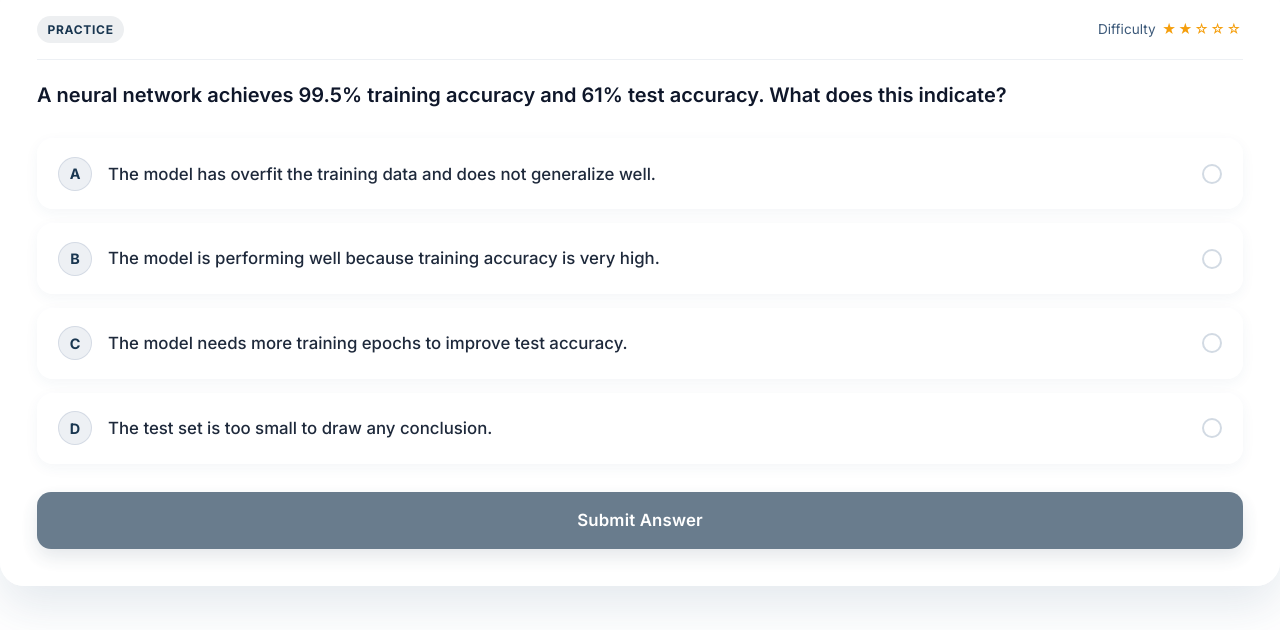
Test: Module 5: Answer Submission Component Tests › Submit button is disabled by default until an option is selected
expect the button "Submit Answer" is disabled: met, box [37, 492, 1243, 549]
# Select Option 1
Step 1. Click the radio button with aria-label "Option A: The model has overfit the training data and does n" → {"x": 640, "y": 174}, box [37, 138, 1243, 209]
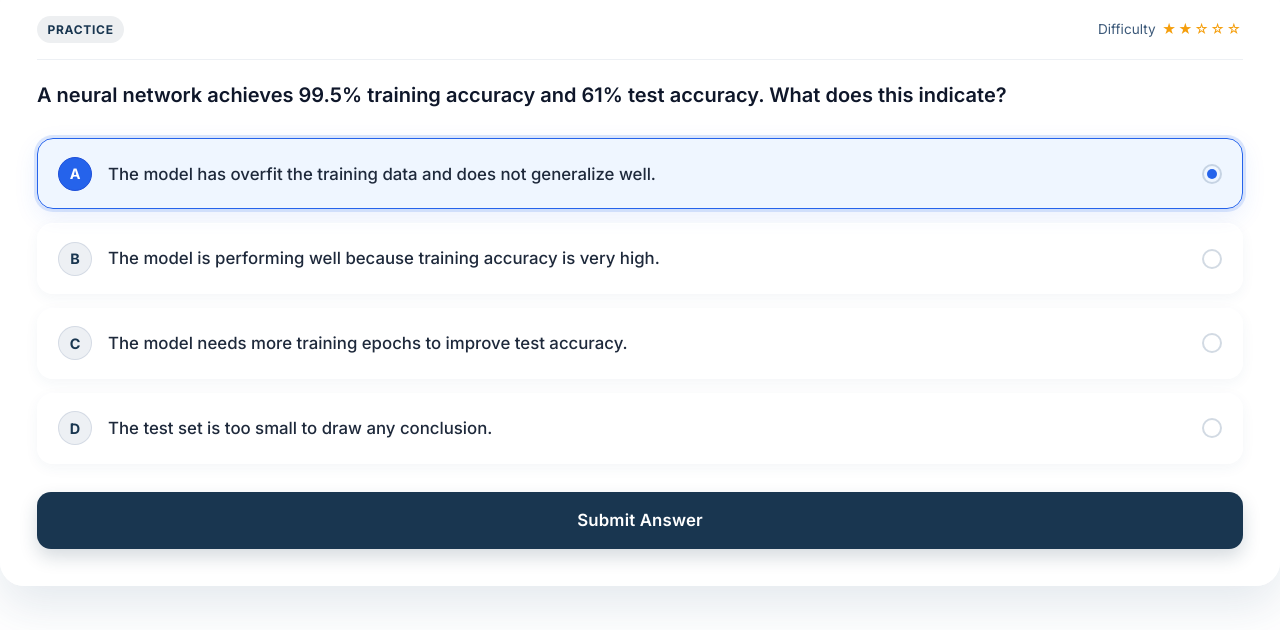
expect the button "Submit Answer" is enabled: met, box [37, 492, 1243, 549]
